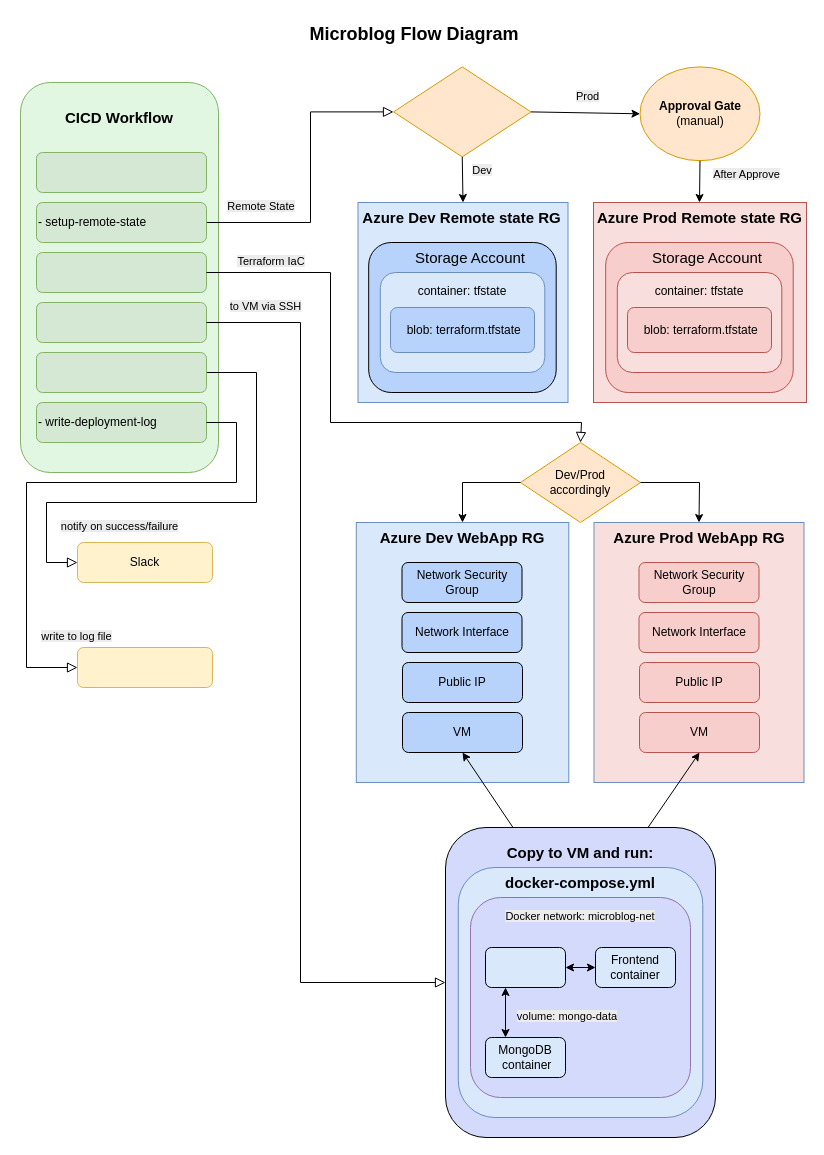
Image size: 824x1155. Some labels were removed from this diagram. The centre of each missing label's shape, as x and y in pixels:
"- deploy-infrastructure" belongs at pixel 121 272.
"- deploy-webapp" belongs at pixel 121 322.
"- healthcheck" belongs at pixel 121 372.
"- test backend & frontend builds with matrix strategy" belongs at pixel 121 172.
"Backend container" belongs at pixel 525 967.
"Deploy to Dev or Prod?" belongs at pixel 461 111.
"deployment_log.md" belongs at pixel 144 667.
